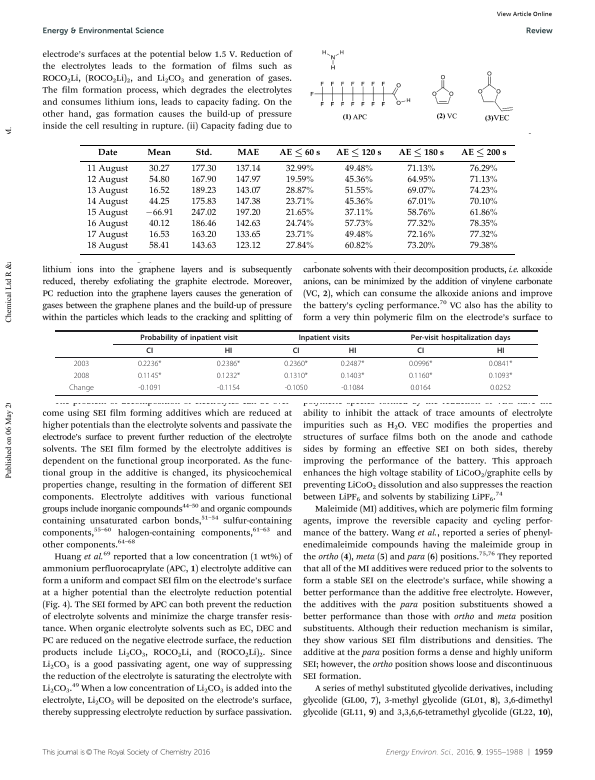borderless: (79, 143, 515, 254), (55, 329, 538, 395)
cell: (410, 333, 511, 342), (139, 333, 239, 342), (298, 333, 351, 342), (335, 148, 382, 158), (397, 148, 444, 158), (460, 148, 507, 158), (86, 164, 128, 175), (86, 175, 128, 186), (86, 186, 128, 197), (86, 197, 128, 208), (86, 208, 128, 219), (86, 219, 128, 230), (86, 230, 128, 241), (86, 241, 128, 252), (278, 148, 321, 158), (343, 164, 373, 175), (406, 164, 436, 175), (468, 164, 498, 175), (343, 175, 373, 186), (406, 175, 436, 186), (468, 175, 498, 186), (343, 186, 373, 197), (406, 186, 436, 197), (468, 186, 498, 197), (343, 197, 373, 208), (406, 197, 436, 208), (468, 197, 498, 208), (144, 208, 174, 219), (343, 208, 373, 219), (406, 208, 436, 219), (468, 208, 498, 219), (343, 219, 373, 230), (406, 219, 436, 230), (468, 219, 498, 230), (343, 230, 373, 241), (406, 230, 436, 241), (468, 230, 498, 241), (343, 241, 373, 252), (406, 241, 436, 252), (468, 241, 498, 252), (285, 164, 314, 175), (285, 175, 314, 186), (285, 186, 314, 197), (285, 197, 314, 208), (285, 208, 314, 219), (285, 219, 314, 230), (285, 230, 314, 241), (285, 241, 314, 252), (190, 164, 217, 175), (234, 164, 261, 175), (190, 175, 217, 186), (234, 175, 261, 186), (190, 186, 217, 197), (234, 186, 261, 197), (190, 197, 217, 208), (234, 197, 261, 208), (190, 208, 217, 219), (234, 208, 261, 219), (190, 219, 217, 230), (234, 219, 261, 230), (190, 230, 217, 241), (234, 230, 261, 241), (190, 241, 217, 252), (234, 241, 261, 252), (68, 383, 95, 393), (283, 359, 309, 369), (283, 371, 309, 381), (137, 359, 162, 369), (216, 359, 241, 369), (340, 359, 365, 369), (408, 359, 433, 369), (488, 359, 513, 369), (137, 371, 162, 381), (216, 371, 241, 381), (340, 371, 365, 381), (408, 371, 433, 381), (488, 371, 513, 381), (137, 383, 162, 393), (216, 383, 241, 393), (340, 383, 365, 393), (148, 164, 170, 175), (148, 175, 170, 186), (148, 186, 170, 197), (148, 197, 170, 208), (148, 219, 170, 230), (148, 230, 170, 241), (148, 241, 170, 252), (284, 383, 308, 393), (409, 383, 432, 393), (489, 383, 512, 393), (146, 148, 172, 156), (236, 148, 259, 156), (96, 148, 118, 156), (73, 359, 90, 369), (73, 371, 90, 381), (194, 148, 212, 156), (145, 346, 154, 356), (224, 346, 233, 356), (348, 346, 357, 356), (416, 346, 425, 356), (496, 346, 505, 356), (292, 346, 300, 356)
